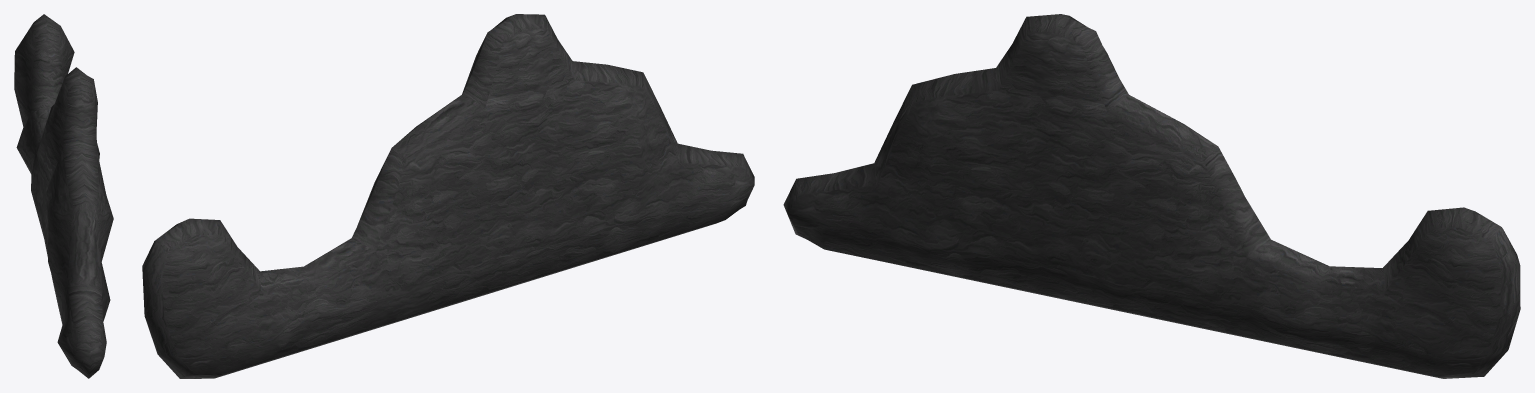
The model's file is RuinWallThree2Shape.dae.
3 renders of one model, left to right at view 1: azimuth 30°, elevation 25°; view 2: azimuth 150°, elevation 25°; view 3: azimuth 270°, elevation 25°, orthographic. The views are drawn at different scales.
Parts seen in each view (by area): view 1: RuinWallThree2; view 2: RuinWallThree2; view 3: RuinWallThree2.
Boxes of the visible parts, <box> form: RuinWallThree2: <box>14,14,113,378</box>; RuinWallThree2: <box>142,14,754,378</box>; RuinWallThree2: <box>783,14,1520,378</box>.
Size of the model in its own units: 21.07 by 18.31 by 41.31.
